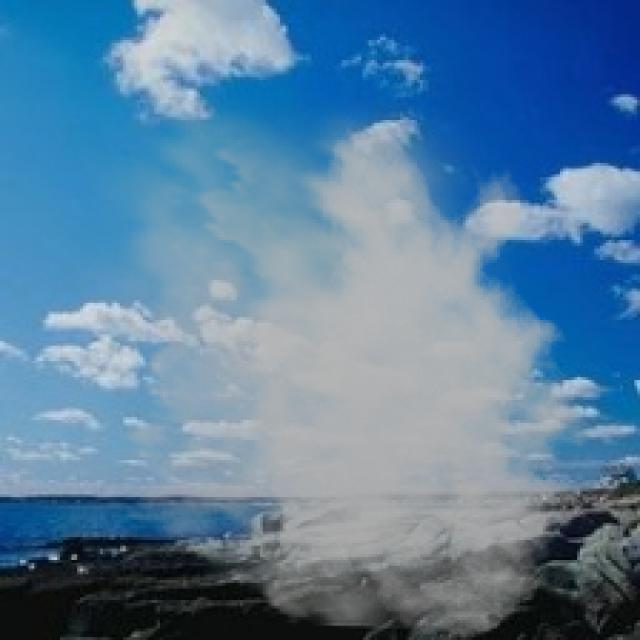Smoke: (60, 77, 617, 637)
